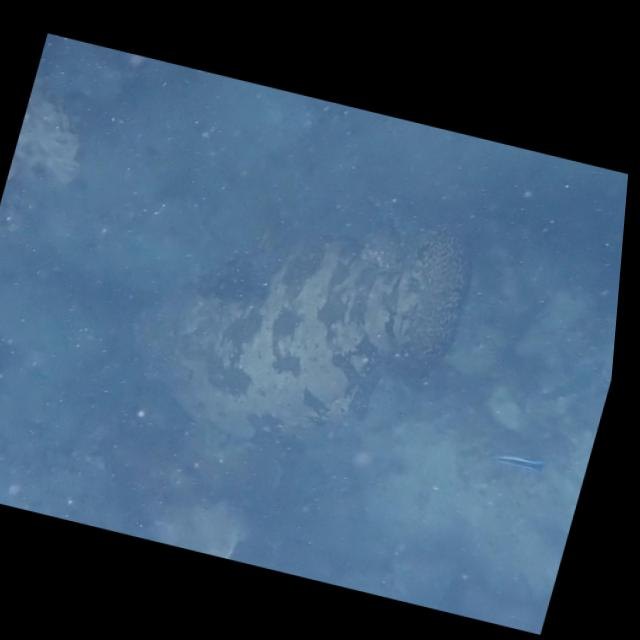Groupers: (103, 159, 494, 487)
